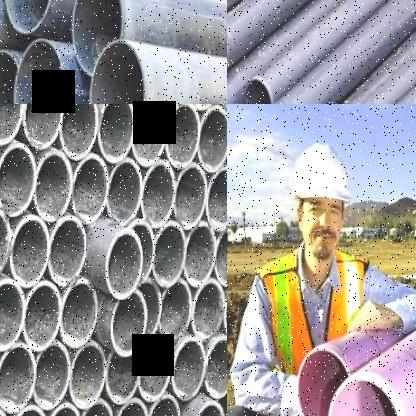pipe: (72, 0, 123, 76), (296, 348, 349, 416), (90, 40, 146, 104), (13, 39, 66, 104), (10, 215, 50, 287), (23, 281, 62, 352), (328, 379, 402, 416), (105, 229, 143, 300), (0, 143, 36, 217), (34, 151, 72, 221), (48, 216, 86, 286), (60, 278, 98, 348), (110, 289, 148, 357), (72, 153, 108, 224), (0, 342, 36, 413), (34, 340, 70, 410), (106, 158, 142, 224), (70, 342, 106, 408), (141, 160, 175, 228), (153, 221, 186, 288), (132, 104, 167, 167), (174, 164, 207, 230), (172, 338, 206, 401), (166, 104, 199, 168), (184, 222, 216, 288), (60, 104, 98, 159), (192, 280, 225, 342), (140, 338, 172, 401), (159, 279, 192, 339), (100, 104, 134, 162), (106, 350, 142, 404), (198, 105, 227, 172), (127, 220, 156, 287), (0, 279, 26, 351), (4, 0, 55, 34), (24, 104, 62, 149), (139, 278, 162, 344), (205, 338, 227, 398), (207, 166, 227, 230), (0, 49, 19, 104), (0, 103, 23, 145), (215, 223, 227, 288), (0, 206, 10, 280), (245, 78, 272, 104), (147, 395, 180, 416), (114, 398, 149, 416), (78, 399, 113, 416), (44, 401, 82, 416), (191, 400, 225, 416), (9, 403, 48, 416), (219, 389, 227, 416)
